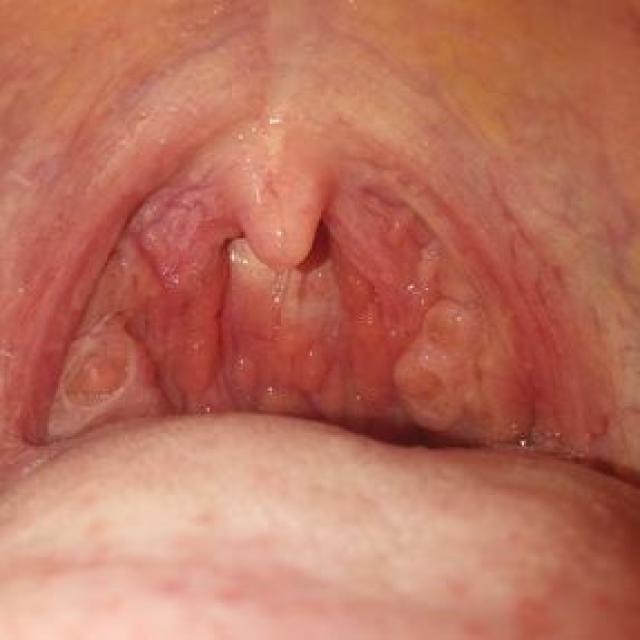Non Pharyngitis: (379, 237, 570, 452), (30, 247, 187, 461)
